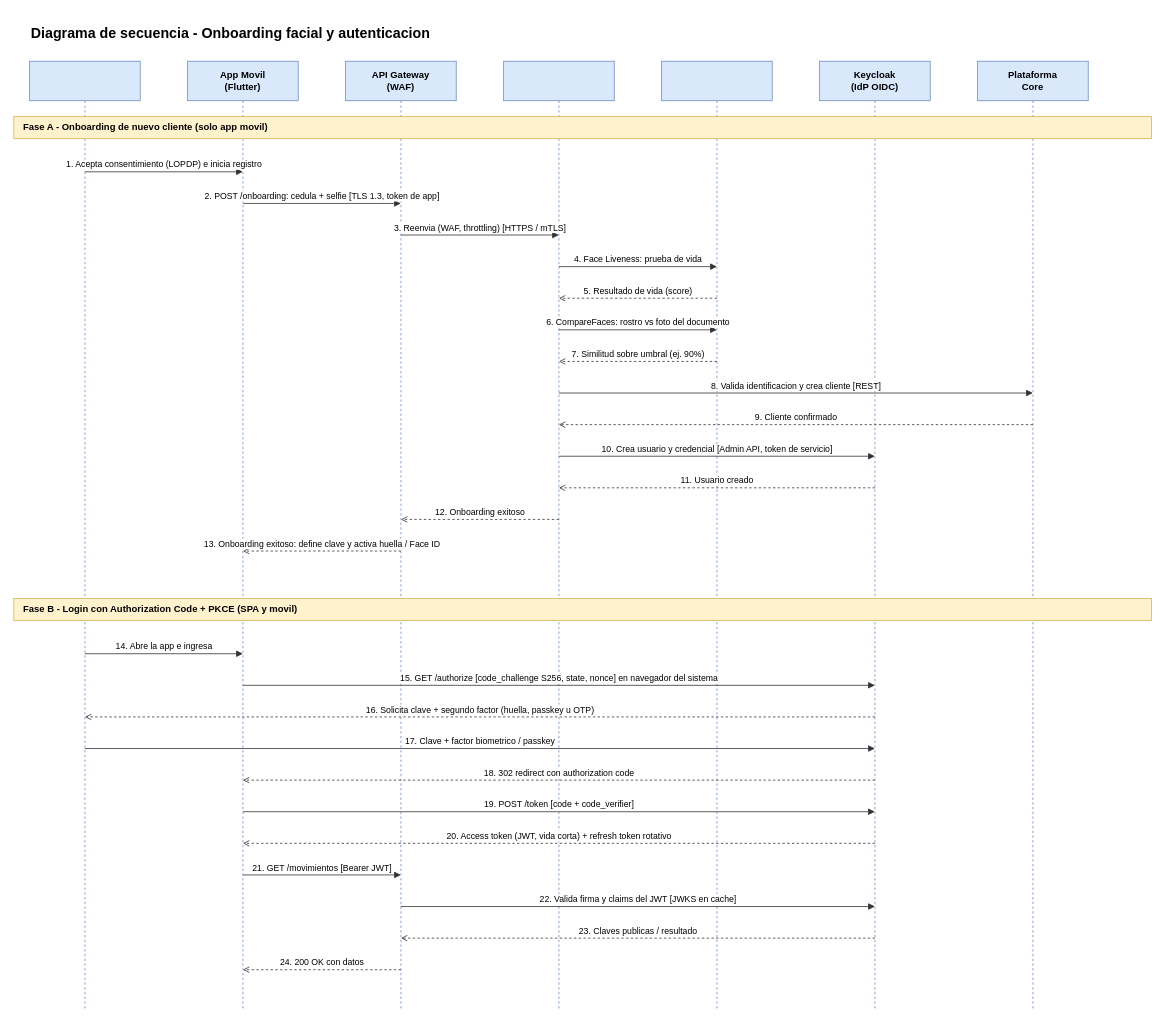
Some shapes in this 1165 by 1023 pixel diagram are drawn without their labels. Each missing label, with the box of its shape:
Amazon Rekognition: (661, 60, 772, 1009)
Cliente: (29, 60, 140, 1009)
Servicio Onboarding: (503, 60, 614, 1009)
